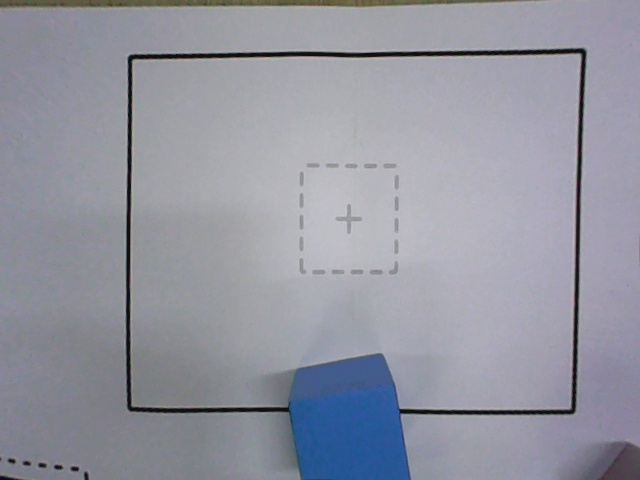upside of big cube: (288, 384, 411, 479)
